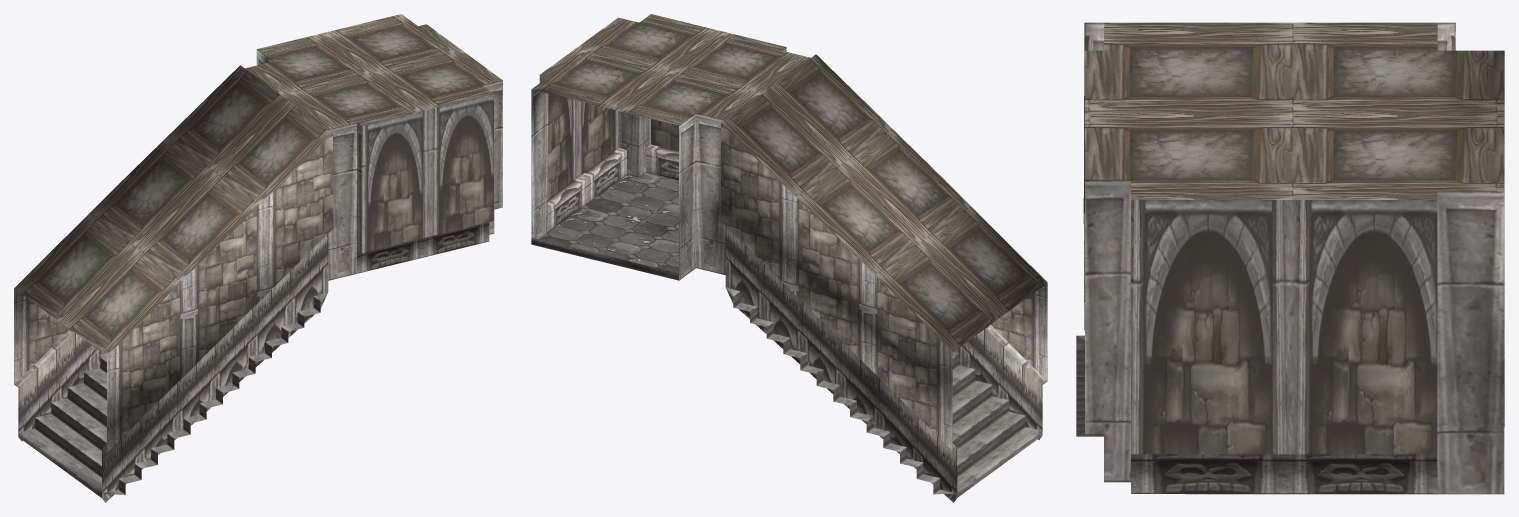
The model's file is stormwind_149.fbx.
3 views of the same model, side by side, from view 1: azimuth 30°, elevation 25°; view 2: azimuth 150°, elevation 25°; view 3: azimuth 270°, elevation 25° (orthographic). The views are drawn at different scales.
Parts seen in each view (by area): view 1: stormwind_149_156, stormwind_149_159, stormwind_149_152, stormwind_149_154, stormwind_149_158; view 2: stormwind_149_156, stormwind_149_159, stormwind_149_154, stormwind_149_152, stormwind_149_158, stormwind_149_157; view 3: stormwind_149_152, stormwind_149_156, stormwind_149_154, stormwind_149_158.
Part boxes in pixels (x1,y1,x2,y2): stormwind_149_156: [14, 14, 502, 355]; stormwind_149_159: [14, 133, 333, 451]; stormwind_149_152: [256, 49, 502, 280]; stormwind_149_154: [14, 222, 489, 502]; stormwind_149_158: [18, 292, 327, 497]; stormwind_149_156: [531, 14, 1047, 351]; stormwind_149_159: [721, 124, 1047, 450]; stormwind_149_154: [548, 144, 1047, 502]; stormwind_149_152: [531, 47, 786, 280]; stormwind_149_158: [531, 237, 1042, 497]; stormwind_149_157: [539, 172, 678, 273]; stormwind_149_152: [1083, 22, 1504, 494]; stormwind_149_156: [1084, 22, 1504, 199]; stormwind_149_154: [1083, 213, 1437, 494]; stormwind_149_158: [1076, 335, 1504, 436].
Bounding box in the file's own units: 14.37 × 10.74 × 6.53.
